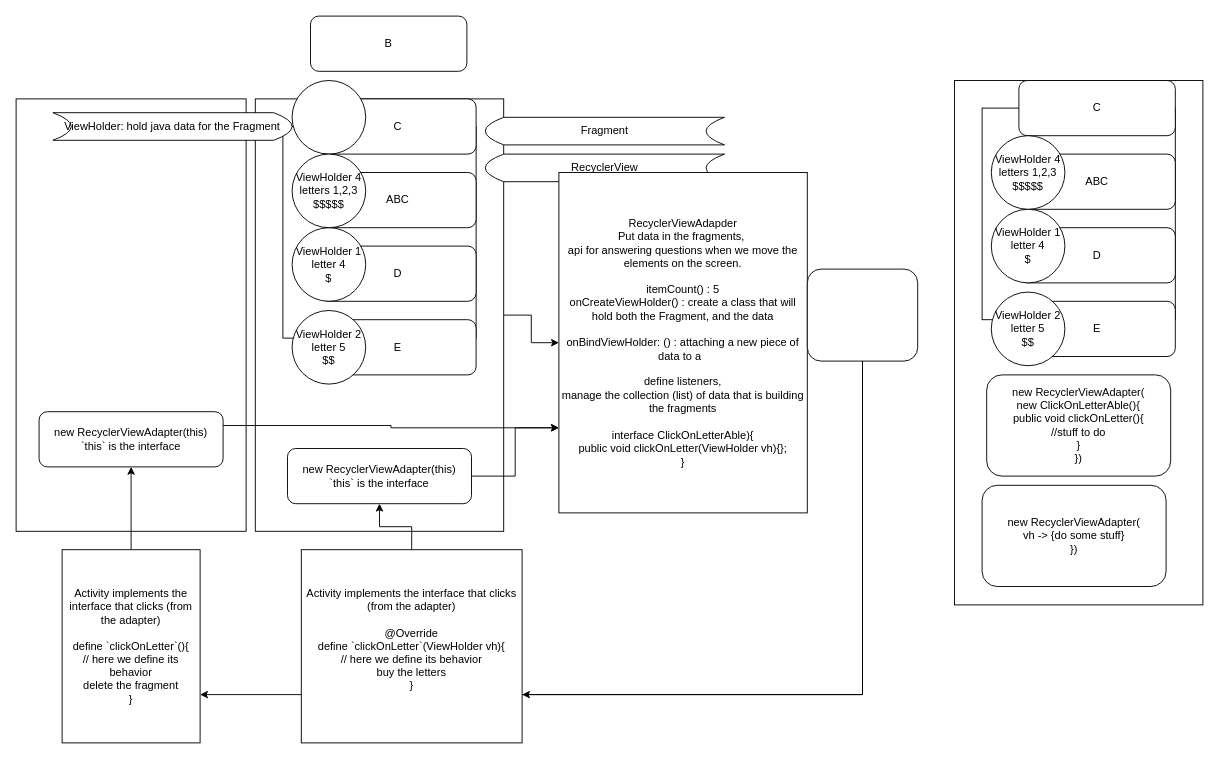
The diagram is 1219 pixels wide and 759 high, and some of its shapes have lost their labels. Each missing label, with the centre of its shape:
"Define an interface for clicking on fragments gives it a name `clickOnLetter`" belongs at [862,314].
"ViewHolder 3 letter 3 $$$" belongs at [328,117].
